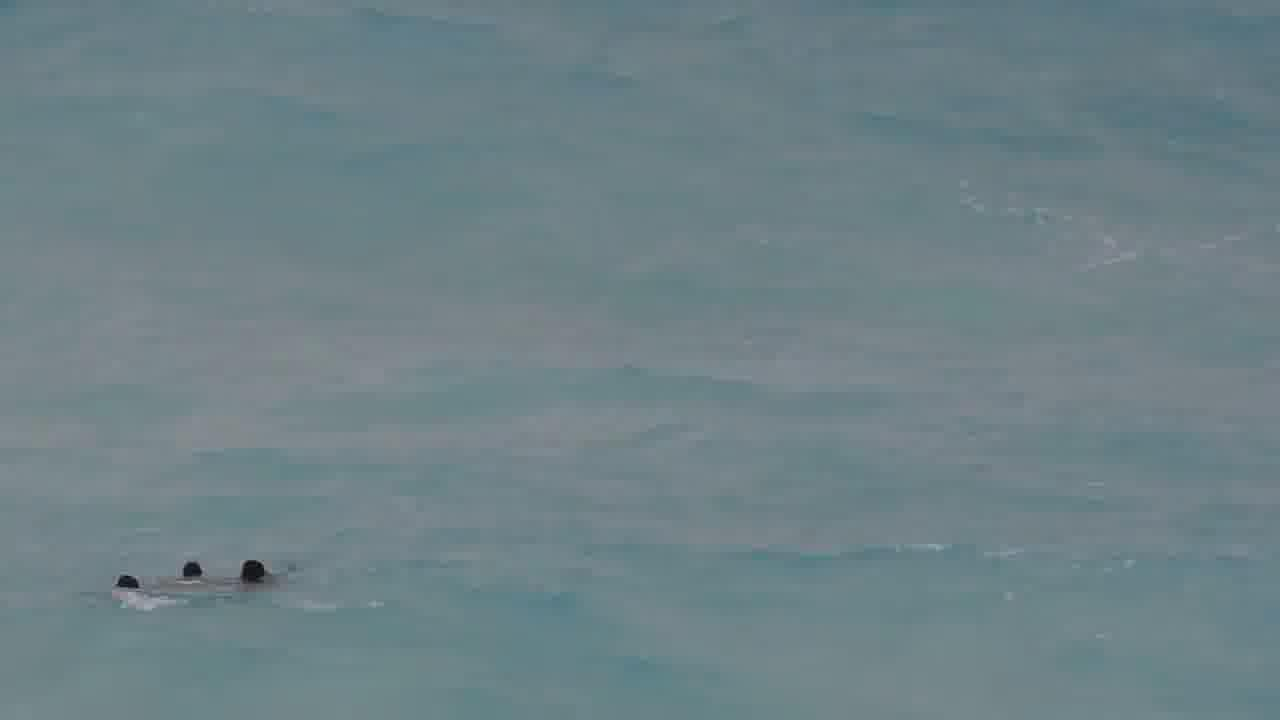human: (231, 545, 279, 598), (103, 558, 142, 606), (172, 545, 205, 598)
